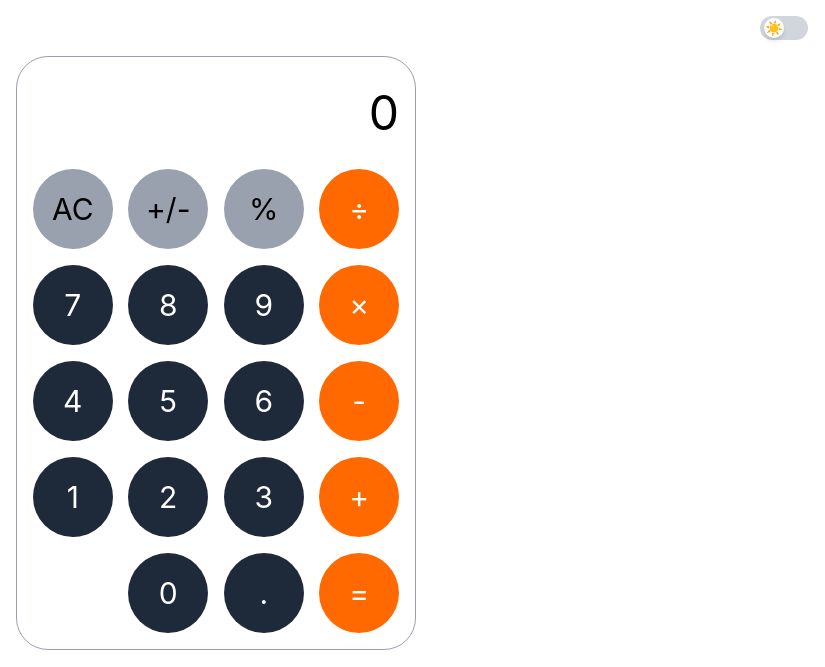
Scenario: Calculator 功能測試 › 輸入數字與加法
The width and height of the screenshot is (825, 667).
Click the button with test id "btn-1". click: click(73, 497)
box: [33,457,113,537]
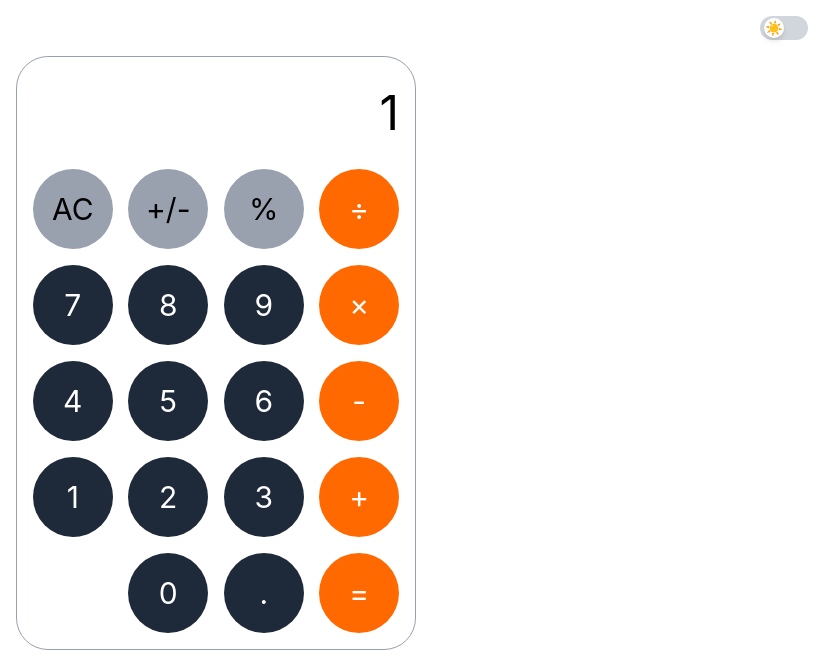
Click the button with test id "btn-+". click: click(359, 497)
box: [319,457,399,537]
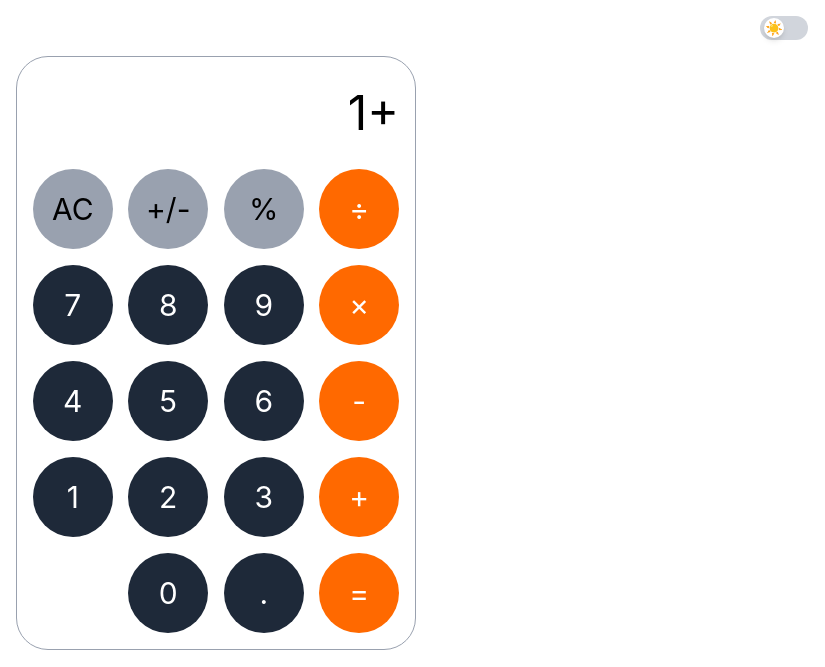
Click the button with test id "btn-2". click: click(168, 497)
box: [128,457,208,537]
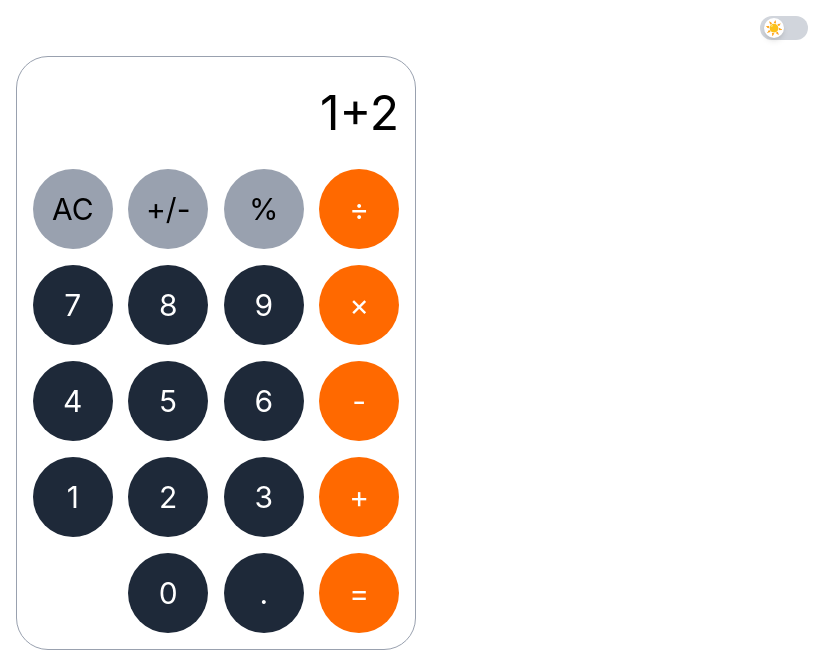
Click the button with test id "btn-=". click: click(359, 593)
box: [319,553,399,633]
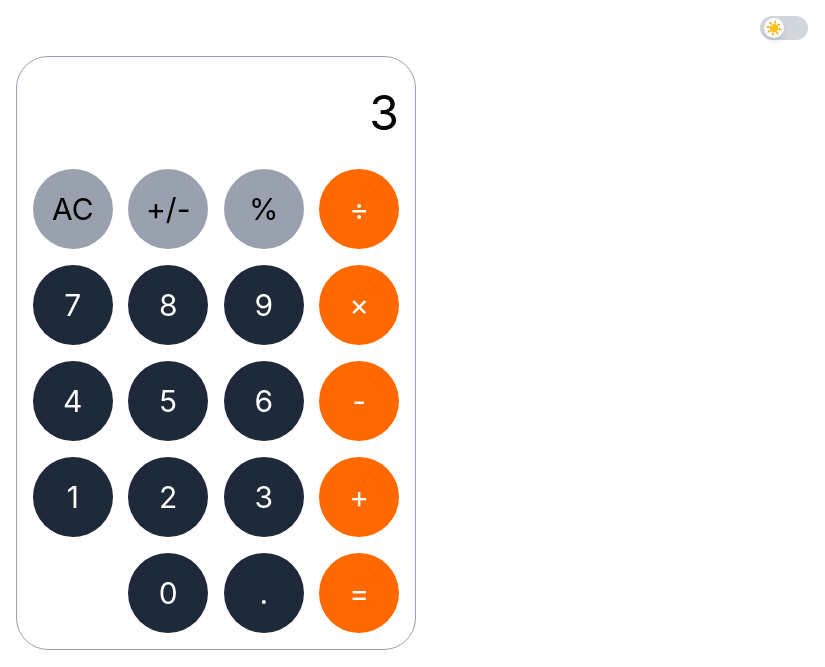
Check: the text with test id "result" reads "3", box [369,83,399,142]
